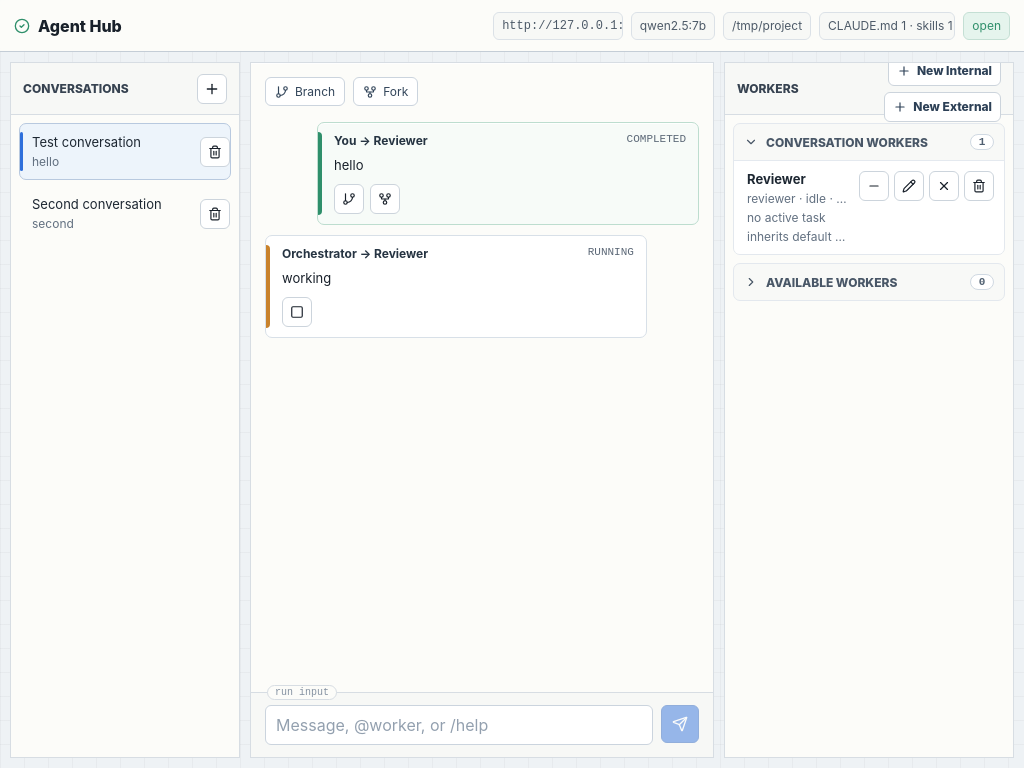
Scenario: Agent Hub app › shows mention candidates and inserts selected worker
The image size is (1024, 768).
In the field with placeholder "Message, @worker, or /help": (459, 725) [265,705,653,745], type "@"
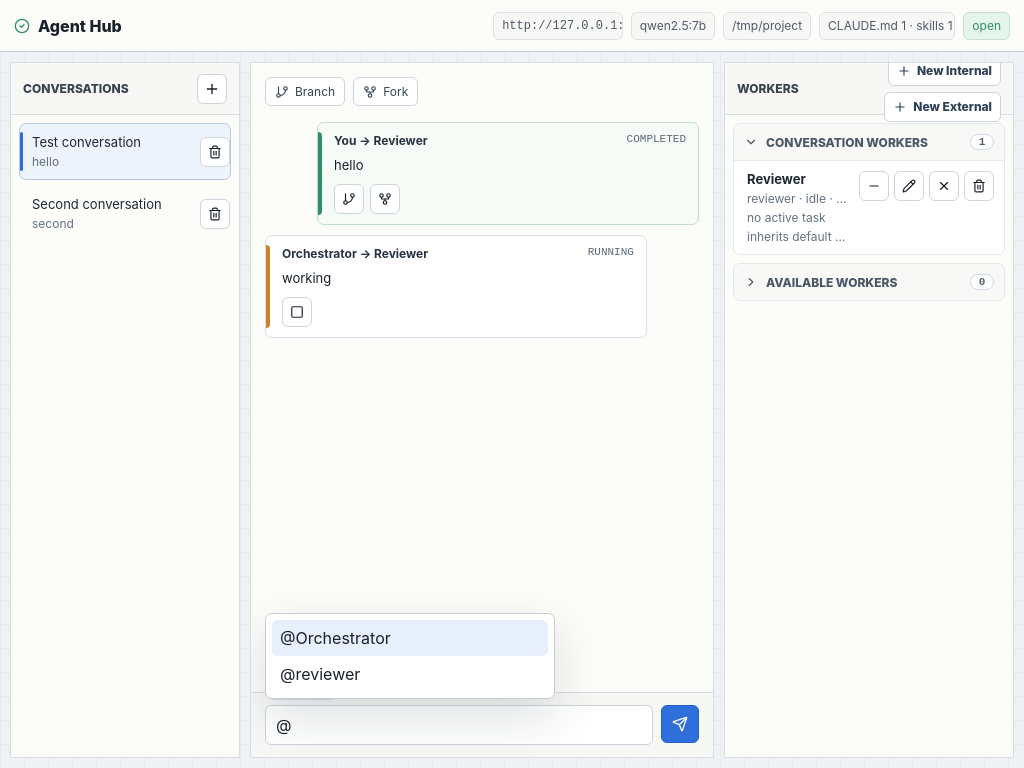
Result: the button "@Orchestrator" is shown at [272,620,548,656]
Result: the button "@reviewer" is shown at [272,656,548,692]
Press ArrowDown in the field with placeholder "Message, @worker, or /help", box [265,705,653,745]
Press Enter in the field with placeholder "Message, @worker, or /help", box [265,705,653,745]
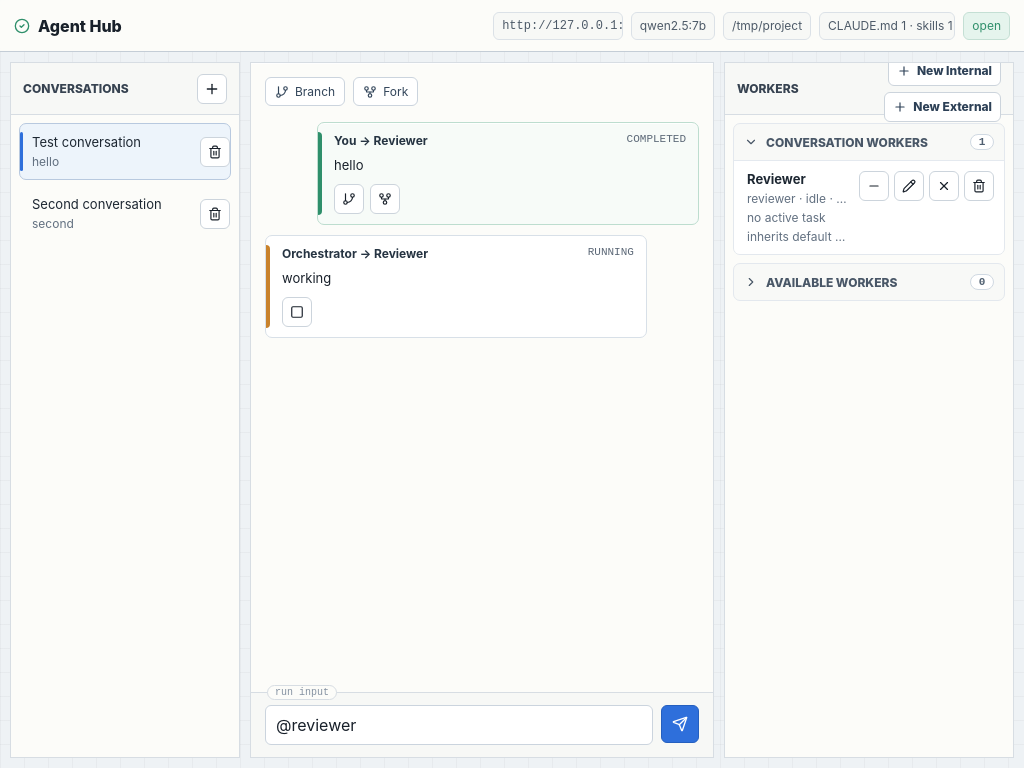
Result: the field with placeholder "Message, @worker, or /help" holds "@reviewer " at [265,705,653,745]
